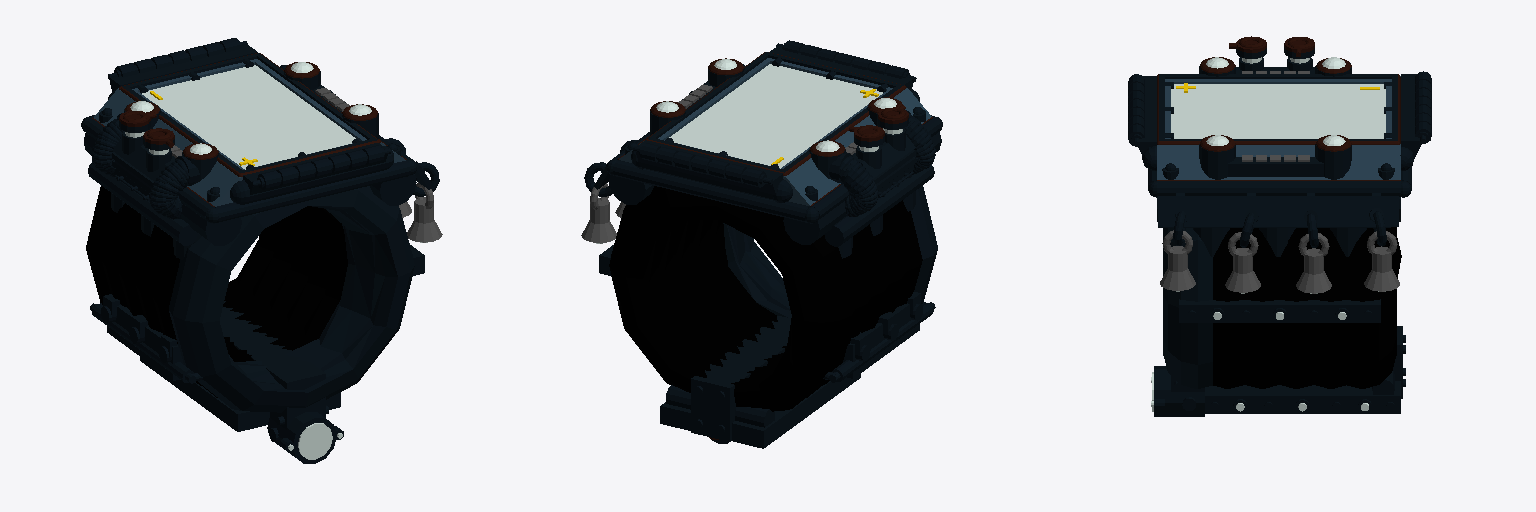
3 renders of one model, left to right at view 1: azimuth 30°, elevation 25°; view 2: azimuth 150°, elevation 25°; view 3: azimuth 270°, elevation 25°, orthographic.
Visible parts, largest first — view 1: group[number redacted], group[number redacted], group[number redacted], group[number redacted], group[number redacted], group[number redacted], group[number redacted], group[number redacted], group[number redacted], group[number redacted], group[number redacted], group[number redacted] (+15 smaller); view 2: group[number redacted], group[number redacted], group[number redacted], group[number redacted], group[number redacted], group[number redacted], group[number redacted], group[number redacted], group[number redacted], group[number redacted], group[number redacted], group[number redacted] (+14 smaller); view 3: group[number redacted], group[number redacted], group[number redacted], group[number redacted], group[number redacted], group[number redacted], group[number redacted], group[number redacted], group[number redacted], group[number redacted], group[number redacted], group[number redacted] (+17 smaller).
Part boxes in pixels (x1,y1,x2,y2): group[number redacted]: (169,186,414,412); group[number redacted]: (142,65,355,169); group[number redacted]: (136,206,332,385); group[number redacted]: (119,206,315,325); group[number redacted]: (153,208,347,397); group[number redacted]: (102,203,298,313); group[number redacted]: (220,301,325,429); group[number redacted]: (86,186,279,304); group[number redacted]: (215,160,410,222); group[number redacted]: (94,88,244,206); group[number redacted]: (140,357,340,431); group[number redacted]: (88,162,197,245); group[number redacted]: (609,186,855,411); group[number redacted]: (669,64,882,168); group[number redacted]: (673,220,888,384); group[number redacted]: (691,310,791,441); group[number redacted]: (723,186,937,317); group[number redacted]: (656,221,871,397); group[number redacted]: (690,209,905,350); group[number redacted]: (707,200,922,328); group[number redacted]: (660,374,860,448); group[number redacted]: (613,160,809,222); group[number redacted]: (781,88,931,205); group[number redacted]: (825,164,934,246); group[number redacted]: (1171,84,1385,138); group[number redacted]: (1158,196,1398,227); group[number redacted]: (1347,227,1401,388); group[number redacted]: (1163,228,1212,388); group[number redacted]: (1205,381,1400,413); group[number redacted]: (1157,144,1400,179); group[number redacted]: (1179,299,1380,322); group[number redacted]: (1279,228,1313,388); group[number redacted]: (1245,228,1278,388); group[number redacted]: (1157,181,1400,196); group[number redacted]: (1314,228,1346,388); group[number redacted]: (1213,228,1244,388).
Size of the model in its own units: 1.11 by 1.25 by 1.07.